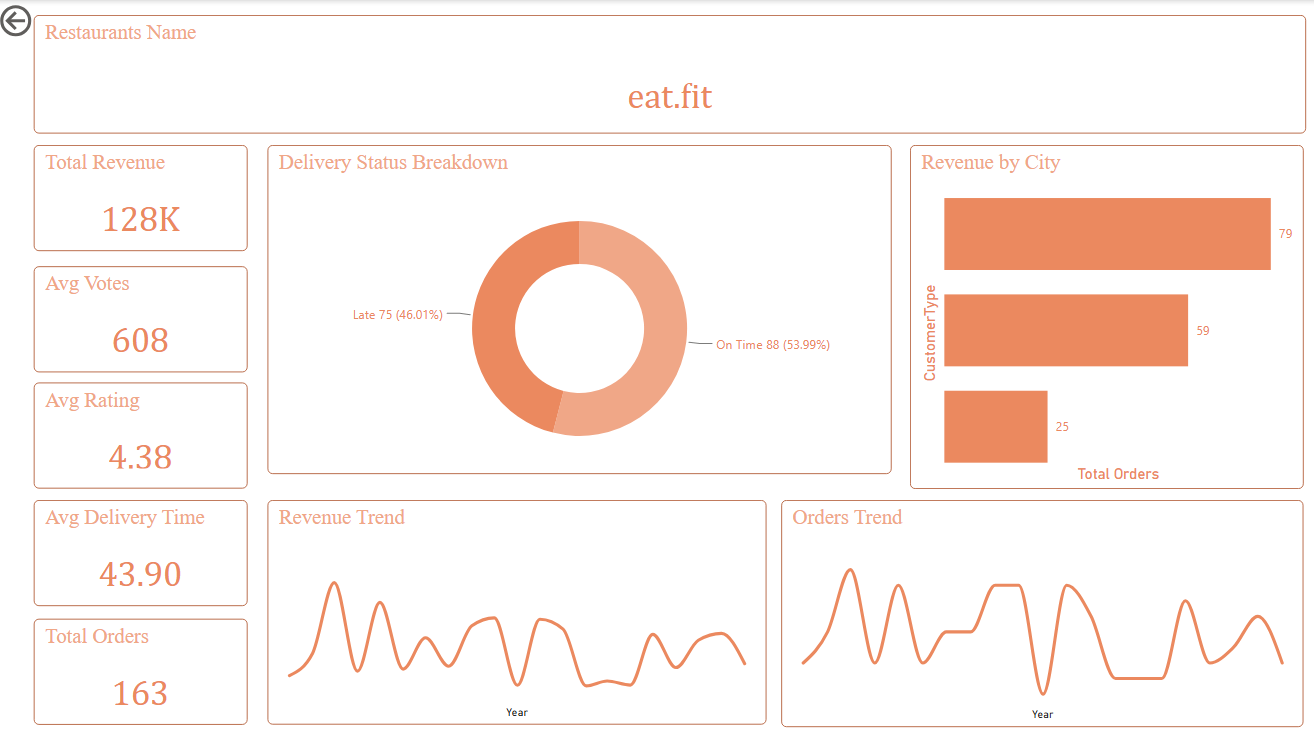

What the dashboard file says about the page in this screenshot:
{"tool":"powerbi","page":{"name":"Restaurants Details","canvas":[1280,720],"ordinal":5},"visuals":[{"type":"cardVisual","title":"Avg Delivery Time","fields":{"Data":["Avg(Orders.DeliveryTimeMins)"]},"box":[37.4,482.6,206,102],"z":0},{"type":"cardVisual","title":"Avg Rating","fields":{"Data":["Orders.Avg Rating"]},"box":[37.4,369.2,206,102],"z":1000},{"type":"cardVisual","title":"Total Revenue","fields":{"Data":["Orders.Total Revenue"]},"box":[37.4,139.9,206.3,102.5],"z":2000},{"type":"cardVisual","title":"Total Orders","fields":{"Data":["Orders.Total Orders"]},"box":[37.4,597.2,206,102],"z":3000},{"type":"cardVisual","title":"Avg Votes","fields":{"Data":["Orders.Avg Votes"]},"box":[37.4,257,206,102],"z":4000},{"type":"cardVisual","title":"Restaurants Name","fields":{"Data":["Min(Restaurants.name)"]},"box":[37.4,14.5,1228.2,114.6],"z":5000},{"type":"lineChart","title":"Revenue Trend","fields":{"Y":["Orders.Total Revenue"],"Category":["DateTable.Date.Variation.Date Hierarchy.Year","DateTable.Date.Variation.Date Hierarchy.Month"]},"box":[263,482.6,481.4,217.2],"z":6000},{"type":"lineChart","title":"Orders Trend","fields":{"Category":["DateTable.Date.Variation.Date Hierarchy.Year","DateTable.Date.Variation.Date Hierarchy.Month"],"Y":["Orders.Total Orders"]},"box":[758.9,482.6,504.3,219.6],"z":7000},{"type":"barChart","title":"Revenue by City","fields":{"Y":["Orders.Total Orders"],"Category":["Customers.CustomerType"]},"box":[883.1,139.9,380,331.8],"z":8000},{"type":"actionButton","box":[0,0,100,40],"z":9000},{"type":"donutChart","title":"Delivery Status Breakdown","fields":{"Category":["Orders.Delivery Status"],"Y":["Orders.Total Orders"]},"box":[263,139.9,602,317.3],"z":10000}]}

Visuals, with their boxes in screenshot pixels (x1, y1, x2, y2), scaled from the page's 1280x720 canvas onto the 1314x741 screenshot:
"Avg Delivery Time" cardVisual: region(38, 497, 250, 602)
"Avg Rating" cardVisual: region(38, 380, 250, 485)
"Total Revenue" cardVisual: region(38, 144, 250, 249)
"Total Orders" cardVisual: region(38, 615, 250, 720)
"Avg Votes" cardVisual: region(38, 264, 250, 369)
"Restaurants Name" cardVisual: region(38, 15, 1299, 133)
"Revenue Trend" lineChart: region(270, 497, 764, 720)
"Orders Trend" lineChart: region(779, 497, 1297, 723)
"Revenue by City" barChart: region(907, 144, 1297, 485)
actionButton: region(0, 0, 103, 41)
"Delivery Status Breakdown" donutChart: region(270, 144, 888, 471)
